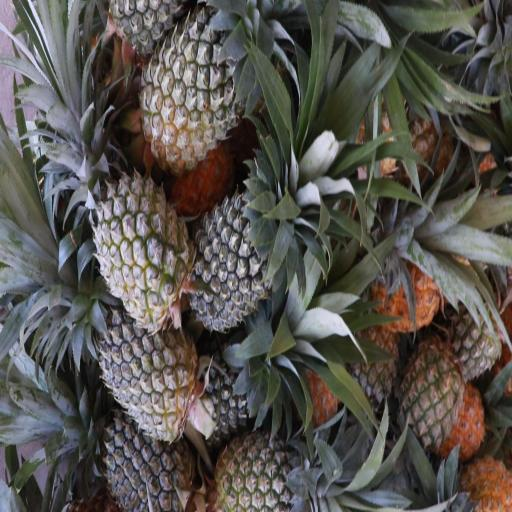------------------------------: (143, 19, 252, 162), (99, 170, 187, 322), (214, 431, 310, 512), (399, 342, 464, 446)
